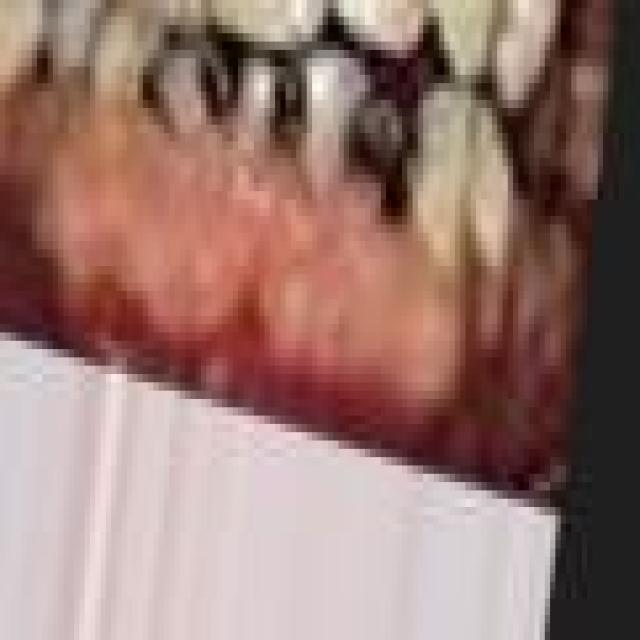caries: (333, 75, 428, 229), (141, 25, 231, 146), (233, 47, 317, 175)
